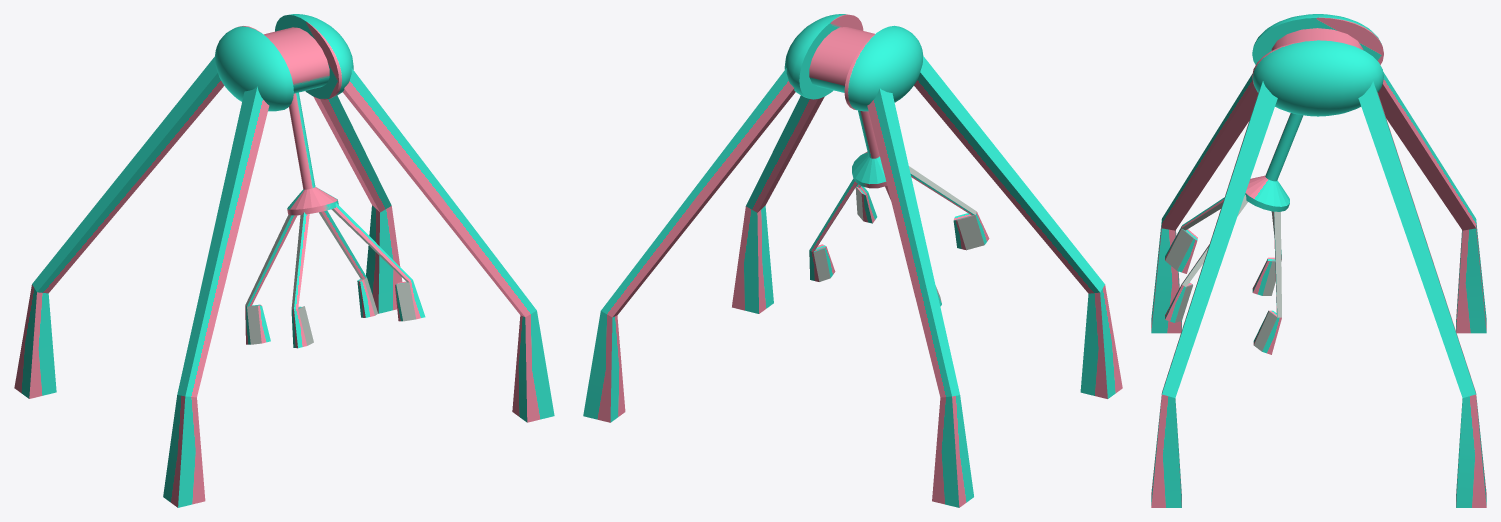
The model's file is Manege.fbx.
3 views of the same model, side by side, from view 1: azimuth 30°, elevation 25°; view 2: azimuth 150°, elevation 25°; view 3: azimuth 270°, elevation 25° (orthographic). The views are drawn at different scales.
Visible parts, largest first — view 1: Box001, Cylinder002; view 2: Box001, Cylinder002; view 3: Box001, Cylinder002.
Boxes of the visible parts, x1,y1,x2,y2 form: Box001: (14, 14, 554, 507); Cylinder002: (245, 92, 425, 348); Box001: (583, 14, 1122, 507); Cylinder002: (809, 110, 989, 306); Box001: (1151, 14, 1486, 507); Cylinder002: (1165, 113, 1303, 354).
Size of the model in its own units: 1339 by 1275 by 1008.
Materials: 1 (1 with a texture image).
